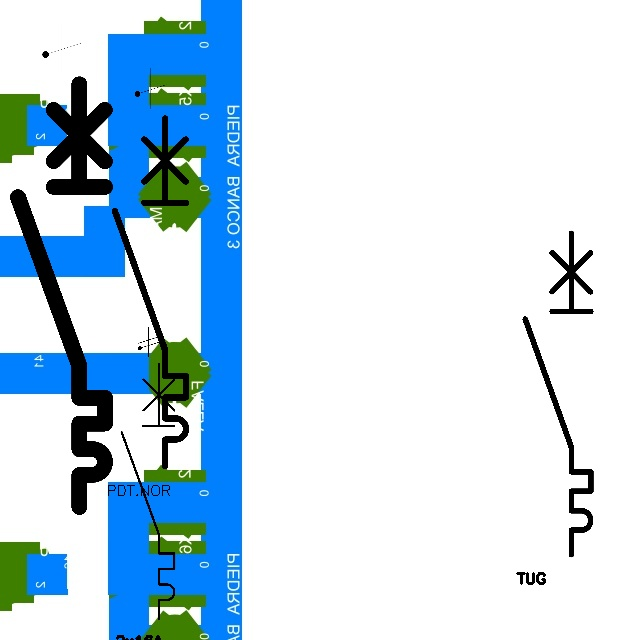interruptor_termomagnetico: (7, 73, 116, 518), (106, 109, 195, 474), (517, 225, 599, 563), (115, 357, 181, 626)
